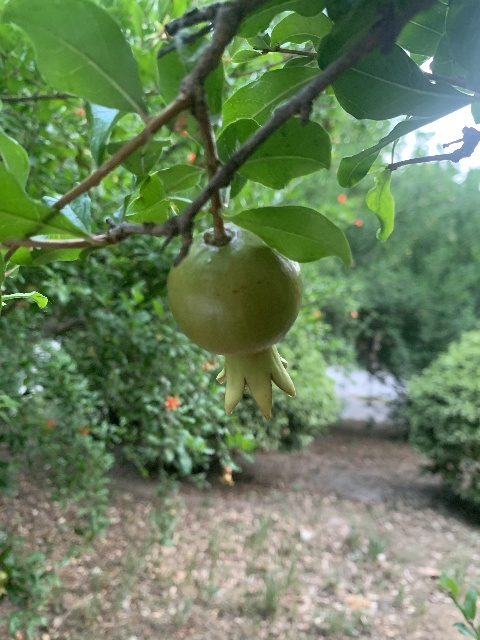flower: (164, 394, 181, 411)
mid-growth: (168, 225, 306, 418)
